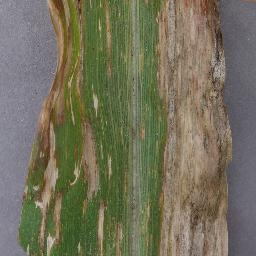Gray_Leaf_Spot: (15, 0, 240, 256)
